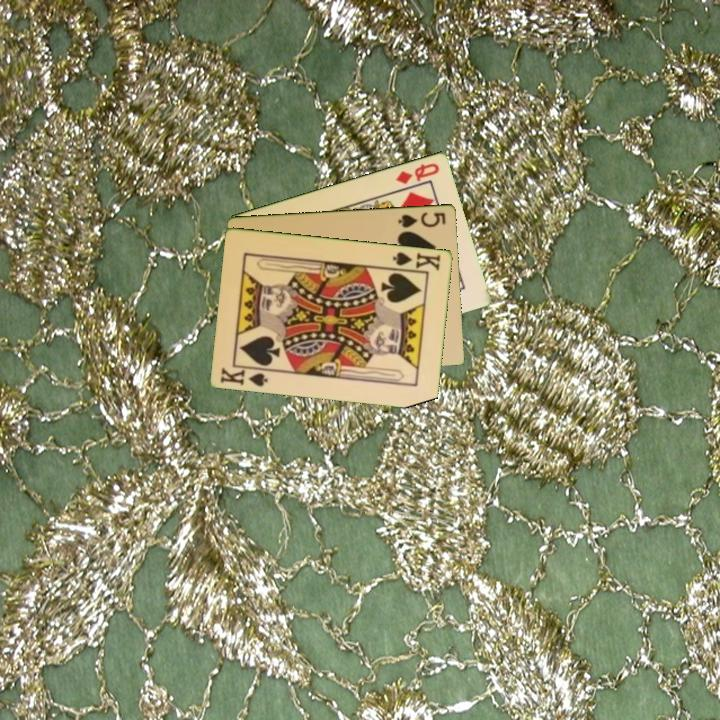5s: (395, 208, 449, 230)
Ks: (217, 363, 274, 389), (389, 248, 443, 274)
Qd: (392, 159, 442, 187)
